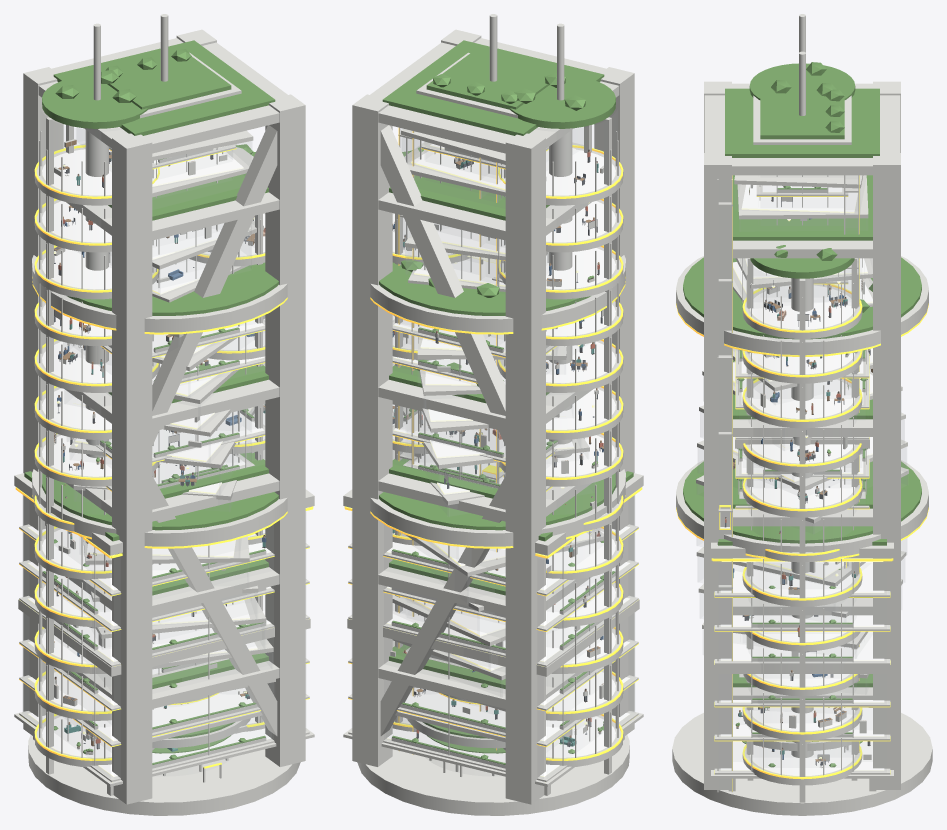
Rendered from se-district-2127.glb.
3 renders of one model, left to right at view 1: azimuth 30°, elevation 25°; view 2: azimuth 150°, elevation 25°; view 3: azimuth 270°, elevation 25°, orthographic. The views are drawn at different scales.
Visible parts, largest first — view 1: frame_district_white, twin_district_white, twist_district_white, terraced_district_white, twin_district_floor, frame_district_green, twist_district_floor, terraced_district_green, twist_district_green, terraced_district_floor, twin_district_amber, twin_district_green (+6 smaller); view 2: frame_district_white, twin_district_white, twist_district_white, terraced_district_white, twin_district_floor, frame_district_green, twist_district_floor, twist_district_green, terraced_district_green, terraced_district_floor, twin_district_amber, twin_district_green (+6 smaller); view 3: frame_district_white, twin_district_white, terraced_district_white, twin_district_floor, twist_district_white, frame_district_green, twist_district_green, terraced_district_floor, terraced_district_green, twin_district_green, twin_district_amber, twist_district_floor (+6 smaller).
Part boxes in pixels (x1,y1,x2,y2): frame_district_white: [23, 22, 305, 815]; twin_district_white: [34, 23, 265, 774]; twist_district_white: [32, 44, 287, 742]; terraced_district_white: [14, 14, 314, 795]; twin_district_floor: [42, 149, 265, 757]; frame_district_green: [53, 40, 275, 688]; twist_district_floor: [73, 144, 257, 655]; terraced_district_green: [24, 49, 265, 764]; twist_district_green: [42, 262, 278, 530]; terraced_district_floor: [28, 146, 271, 776]; twin_district_amber: [34, 145, 265, 760]; twin_district_green: [42, 70, 255, 751]; frame_district_white: [352, 22, 634, 815]; twin_district_white: [392, 23, 623, 774]; twist_district_white: [370, 42, 625, 776]; terraced_district_white: [343, 14, 643, 795]; twin_district_floor: [392, 149, 615, 757]; frame_district_green: [382, 40, 604, 688]; twist_district_floor: [411, 148, 591, 671]; twist_district_green: [379, 260, 615, 530]; terraced_district_green: [392, 53, 633, 764]; terraced_district_floor: [386, 144, 629, 776]; twin_district_amber: [392, 145, 623, 760]; twin_district_green: [402, 72, 615, 731]; frame_district_white: [672, 60, 932, 815]; twin_district_white: [742, 14, 862, 802]; terraced_district_white: [711, 51, 893, 792]; twin_district_floor: [750, 285, 854, 775]; twist_district_white: [676, 80, 928, 752]; frame_district_green: [725, 88, 879, 687]; twist_district_green: [683, 188, 921, 543]; terraced_district_floor: [720, 185, 884, 770]; terraced_district_green: [718, 89, 886, 767]; twin_district_green: [749, 62, 855, 569]; twin_district_amber: [742, 284, 862, 779]; twist_district_floor: [733, 184, 872, 579].
Size of the model in its own units: 38 by 112 by 37.
